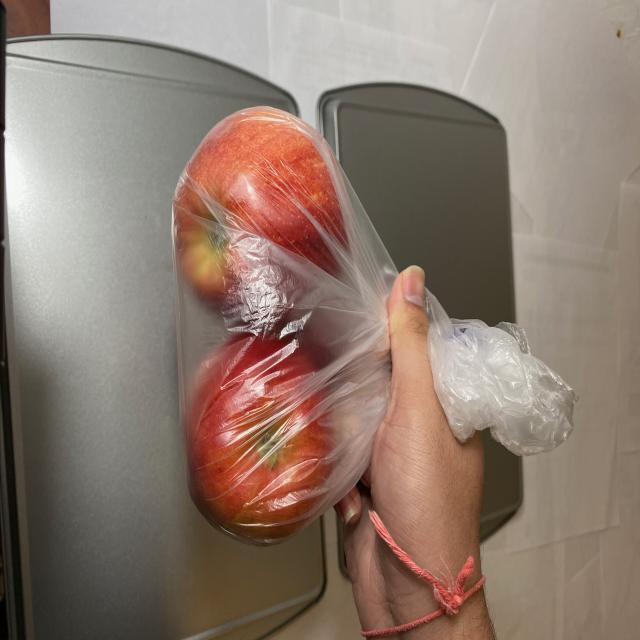apple: (168, 95, 348, 553)
